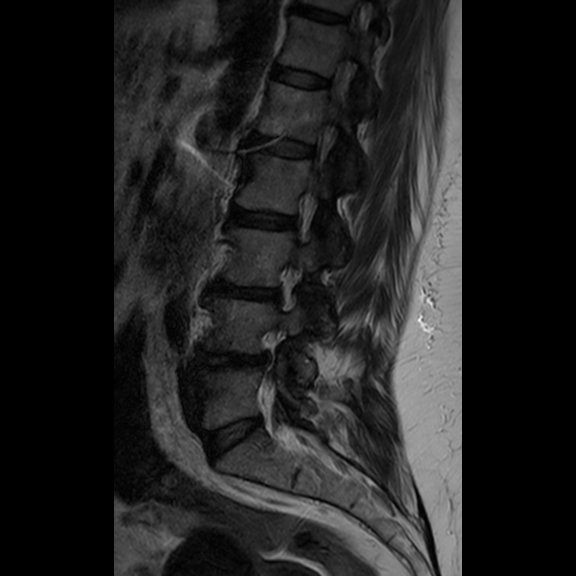LFS0: (262, 256, 311, 317)
